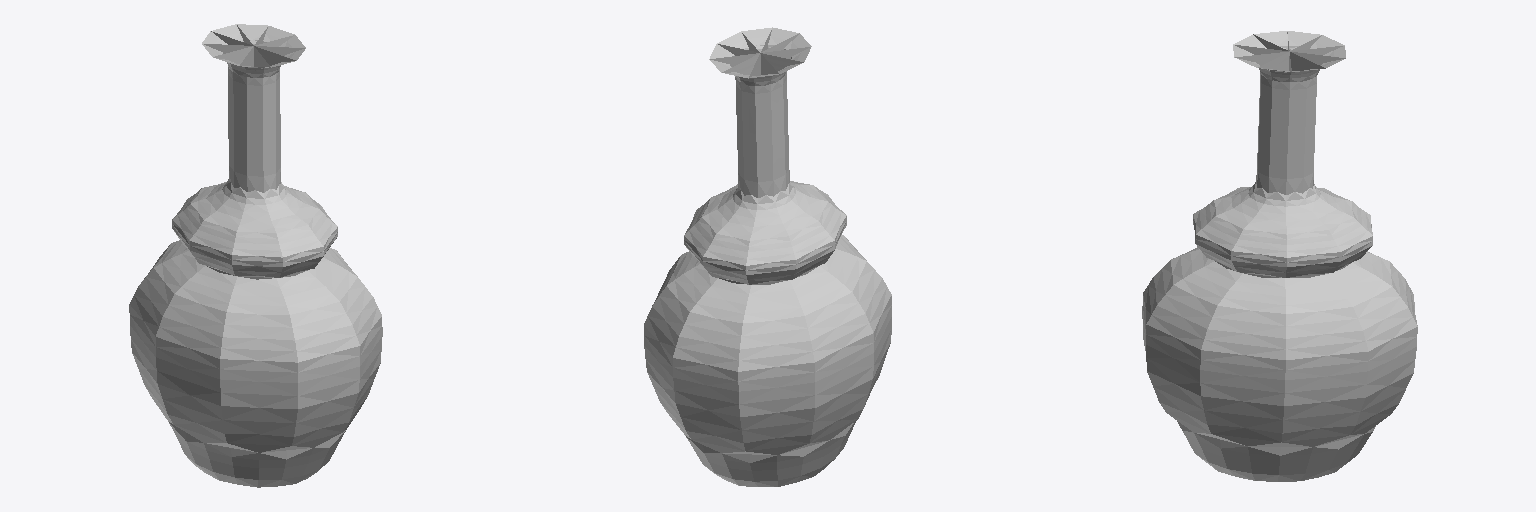
The model's file is vase.obj.
3 renders of one model, left to right at view 1: azimuth 30°, elevation 25°; view 2: azimuth 150°, elevation 25°; view 3: azimuth 270°, elevation 25°, orthographic.
Visible parts, largest first — view 1: 000_Cylinder_-_baked; view 2: 000_Cylinder_-_baked; view 3: 000_Cylinder_-_baked.
Part boxes in pixels (x1,y1,x2,y2): 000_Cylinder_-_baked: (129, 24, 382, 487); 000_Cylinder_-_baked: (644, 27, 891, 486); 000_Cylinder_-_baked: (1142, 31, 1417, 481).
Size of the model in its own units: 66.39 by 128 by 76.75.